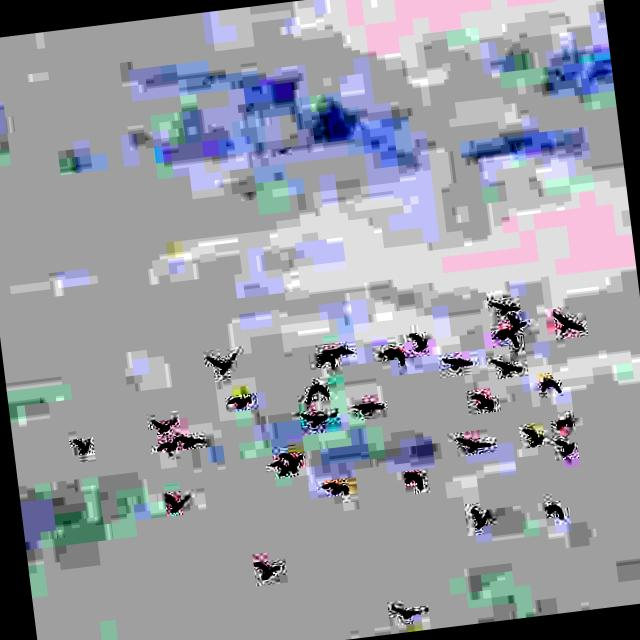bird: (536, 487, 576, 530), (152, 484, 194, 523), (460, 503, 506, 534), (250, 549, 286, 588), (550, 305, 590, 339), (204, 349, 245, 382), (68, 428, 103, 462), (453, 430, 490, 458), (354, 392, 388, 421), (220, 391, 260, 415), (491, 290, 526, 316), (296, 379, 332, 404), (302, 409, 345, 429), (400, 466, 428, 496), (470, 388, 498, 417), (557, 435, 581, 467), (494, 356, 526, 379), (378, 344, 407, 369), (148, 414, 184, 434), (151, 432, 185, 453), (446, 354, 472, 378), (326, 478, 353, 500), (326, 336, 350, 360), (410, 328, 432, 354), (538, 378, 564, 399), (524, 426, 545, 452), (268, 460, 294, 480), (179, 434, 209, 451), (396, 604, 418, 624), (314, 350, 336, 370), (286, 452, 304, 474), (553, 415, 576, 432), (510, 314, 530, 332), (497, 327, 515, 344)
